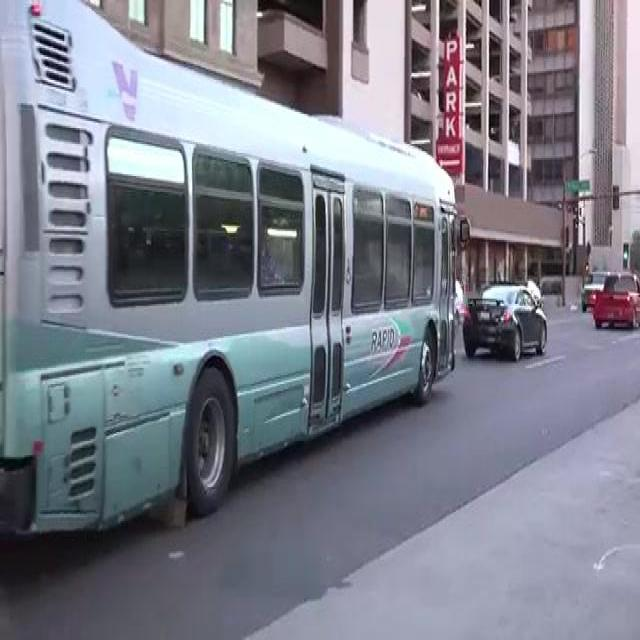motorcycle: (0, 0, 481, 578)
